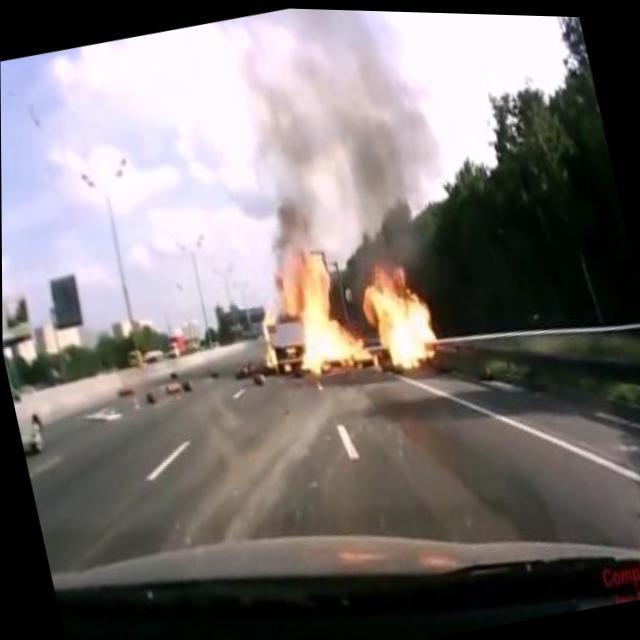fire: (235, 204, 441, 398)
